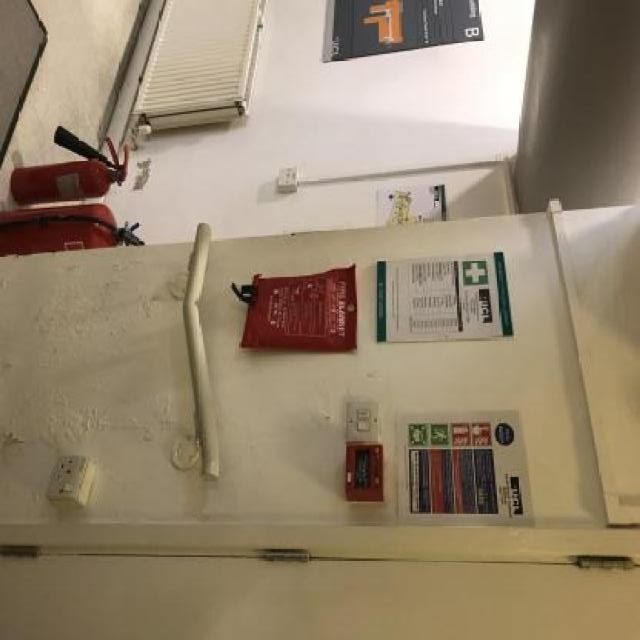fire extinguisher: (13, 127, 130, 205), (0, 205, 143, 257)
